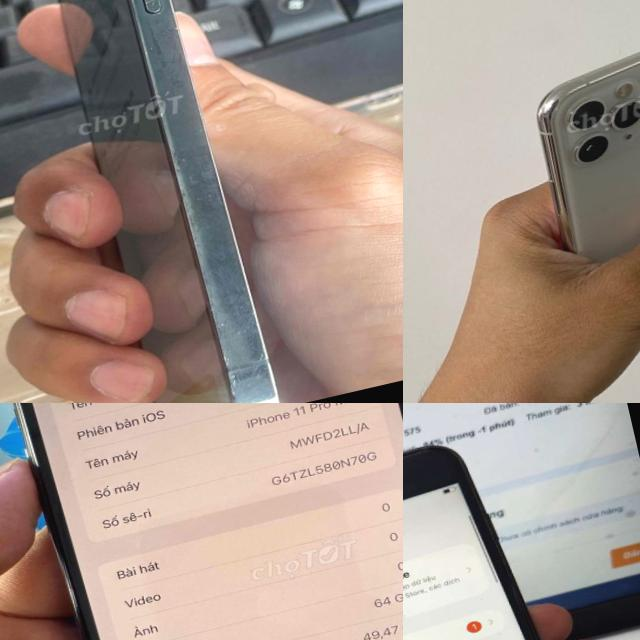gen_11: (0, 403, 403, 640), (538, 50, 640, 260)
gen_12_13: (0, 0, 299, 403)
gen_7_8: (403, 421, 619, 640)
